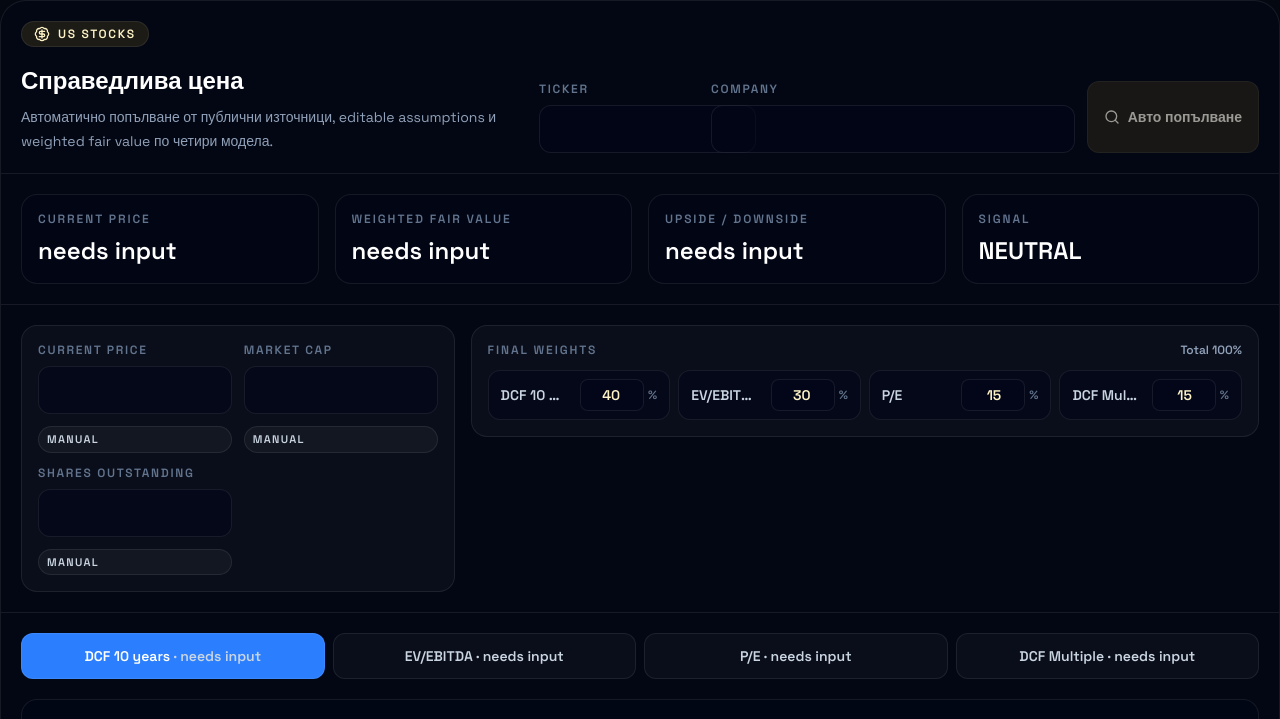
Scenario: StockValuationPanel › FCF per share calculator does not overwrite DCF Multiple scenario inputs
The image size is (1280, 719).
Type "GOOG" into the field labelled "Ticker" at (648, 129), box x1=539 y1=105 x2=756 y2=153
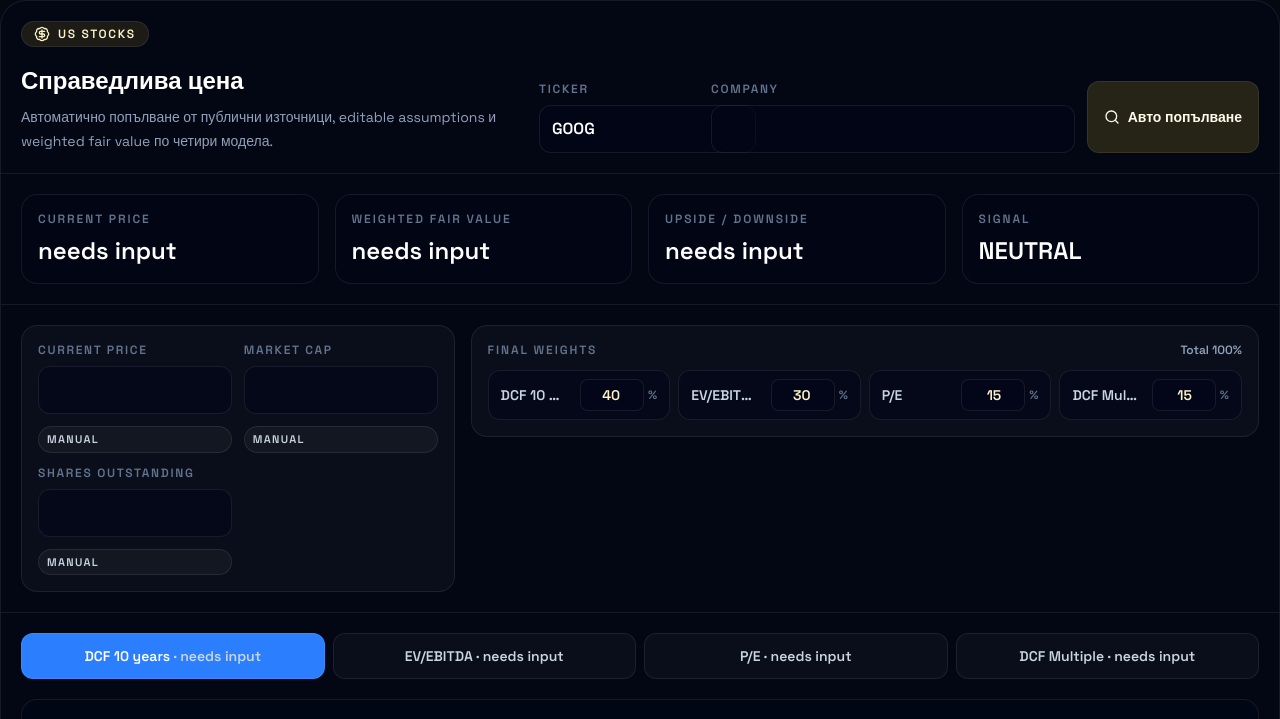
Click the button "Авто попълване" at (1173, 117), box x1=1087 y1=81 x2=1259 y2=153
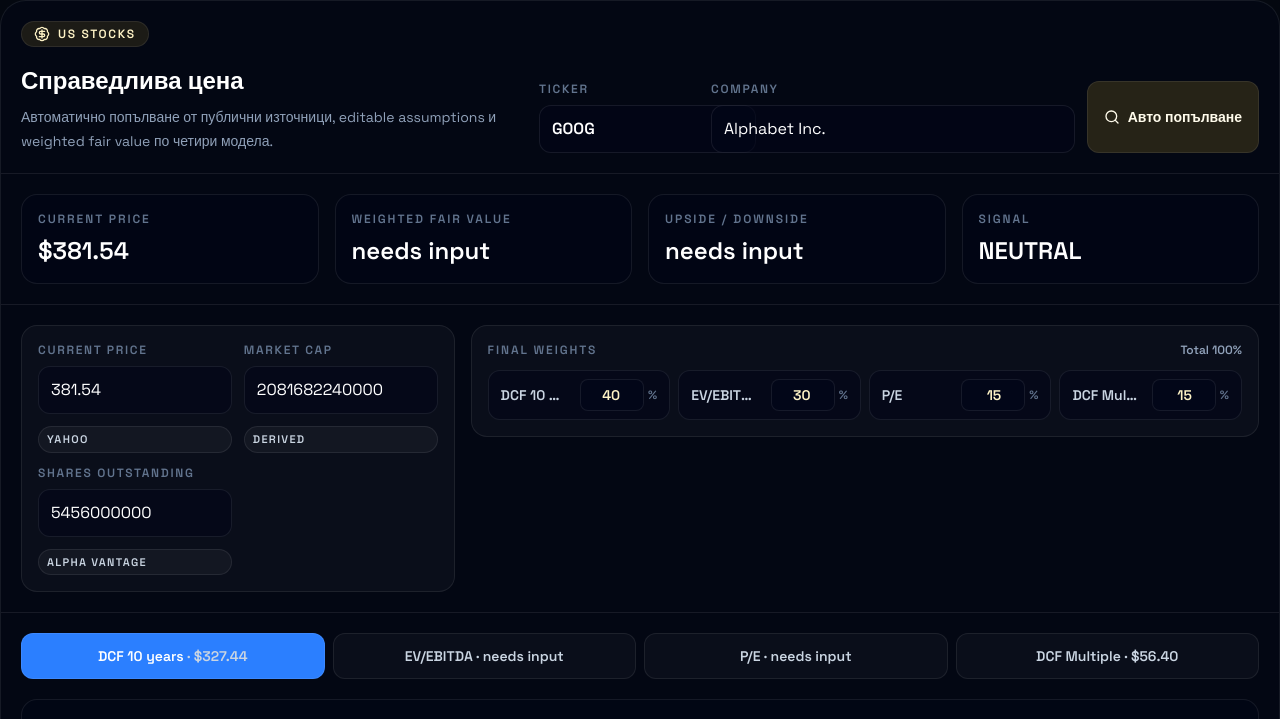
Click the button "DCF Multiple · $56.40" at (1107, 656), box x1=956 y1=633 x2=1259 y2=679
(page scrolled)
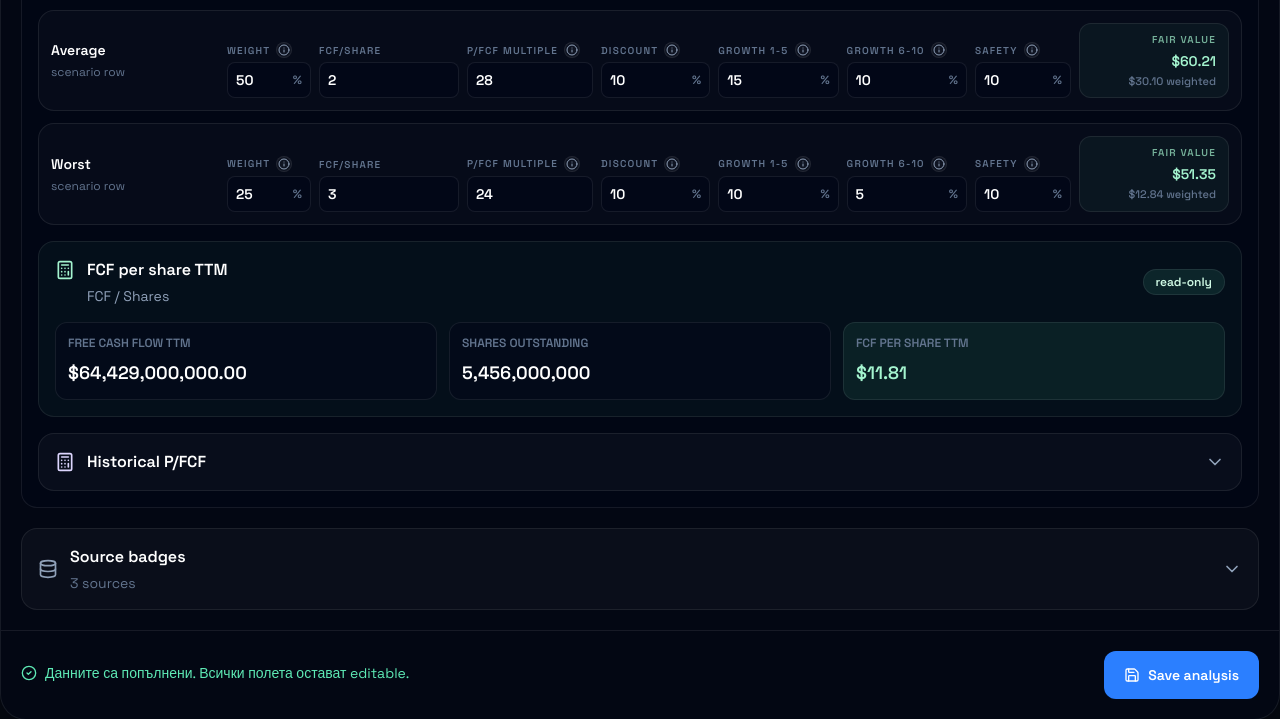
Result: the text with test id "fcf-per-share-ttm-value" reads "$11.81" at x1=856 y1=360 x2=907 y2=384
